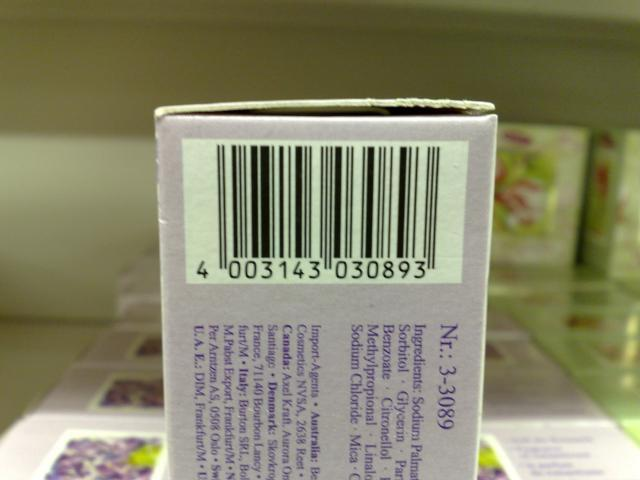Barcode: (189, 145, 449, 285)
